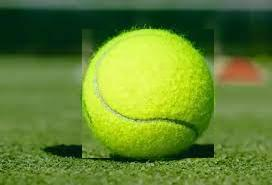tennis ball: (82, 30, 214, 158)
